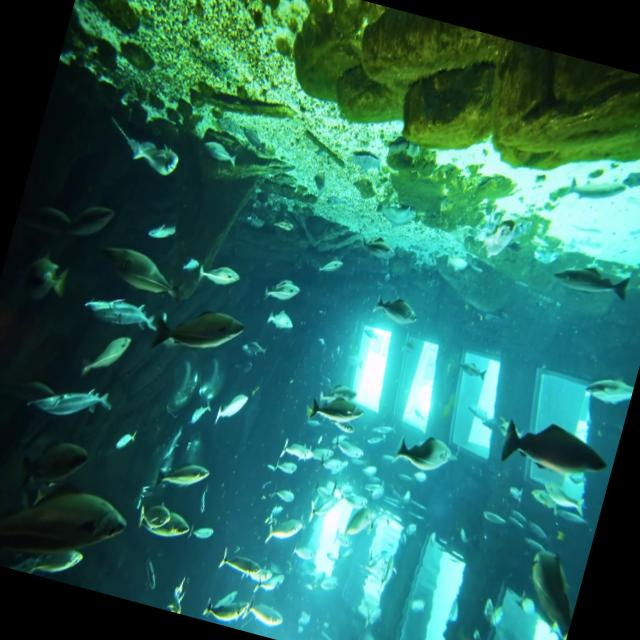fish: (0, 459, 138, 595), (485, 401, 618, 499), (146, 282, 252, 372), (86, 236, 196, 314), (20, 366, 120, 448), (86, 105, 194, 180), (509, 544, 587, 640), (7, 425, 94, 503), (4, 240, 81, 324), (548, 246, 636, 314), (381, 413, 466, 481), (76, 284, 169, 345), (77, 317, 145, 398), (357, 273, 429, 342), (151, 440, 218, 508), (291, 372, 364, 432), (65, 186, 126, 254), (569, 358, 637, 418), (209, 374, 263, 440), (334, 488, 386, 548), (212, 536, 273, 586), (190, 250, 248, 300), (255, 266, 306, 314), (197, 586, 250, 630), (260, 510, 306, 560), (134, 482, 174, 538), (244, 594, 294, 632), (150, 510, 190, 550), (103, 422, 140, 462)
